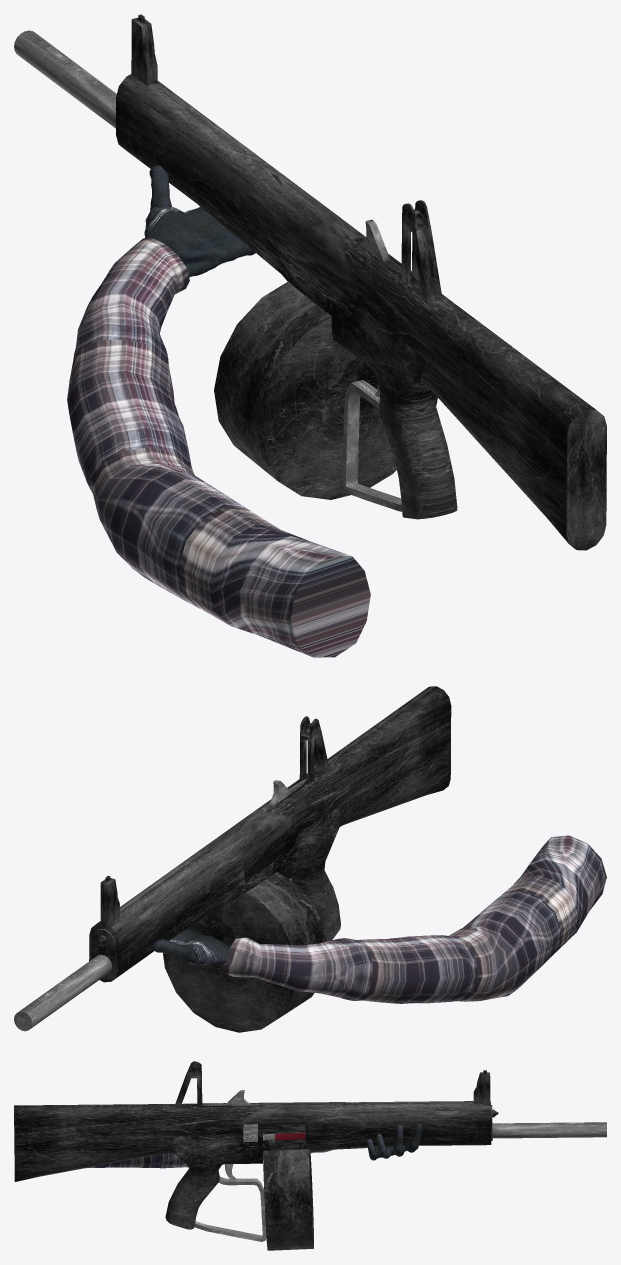
Rendered from aa12_ads_fire.fbx.
The picture shows the model from 3 angles, top to bottom: view 1: azimuth 30°, elevation 25°; view 2: azimuth 150°, elevation 25°; view 3: azimuth 270°, elevation 25°; orthographic projection. The views are drawn at different scales.
Visible parts, largest first — view 1: larm, aaa12_upperbody, aa12_drummagazine, aa12_lowerbody, lhand, aa12_barrel, aa12_wiregrip, aa12_rearsight, aa12_frontsight; view 2: larm, aaa12_upperbody, aa12_drummagazine, aa12_lowerbody, aa12_barrel, aa12_rearsight, lhand, aa12_frontsight, lthumb; view 3: aaa12_upperbody, aa12_lowerbody, aa12_drummagazine, aa12_barrel, aa12_wiregrip, larm, aa12_rearsight, aa12_bolt, aa12_frontsight, 12gauge_shotgunshell, lmfinger.
Part boxes in pixels (x1,y1,x2,y2): larm: [67, 238, 370, 657]; aaa12_upperbody: [116, 74, 606, 550]; aa12_drummagazine: [214, 281, 437, 499]; aa12_lowerbody: [275, 266, 457, 519]; lhand: [144, 206, 252, 277]; aa12_barrel: [14, 30, 116, 128]; aa12_wiregrip: [342, 380, 402, 511]; aa12_rearsight: [401, 200, 441, 299]; aa12_frontsight: [131, 14, 157, 86]; larm: [219, 835, 606, 1003]; aaa12_upperbody: [89, 686, 451, 982]; aa12_drummagazine: [163, 871, 326, 1032]; aa12_lowerbody: [234, 799, 351, 941]; aa12_barrel: [14, 954, 111, 1031]; aa12_rearsight: [299, 716, 329, 782]; lhand: [169, 929, 231, 965]; aa12_frontsight: [100, 876, 119, 924]; lthumb: [153, 939, 198, 962]; aaa12_upperbody: [14, 1101, 492, 1181]; aa12_lowerbody: [157, 1134, 324, 1229]; aa12_drummagazine: [263, 1149, 313, 1250]; aa12_barrel: [492, 1122, 606, 1138]; aa12_wiregrip: [194, 1176, 266, 1241]; larm: [85, 1149, 332, 1168]; aa12_rearsight: [175, 1061, 202, 1107]; aa12_bolt: [202, 1090, 257, 1142]; aa12_frontsight: [473, 1070, 490, 1104]; 12gauge_shotgunshell: [262, 1133, 305, 1140]; lmfinger: [393, 1125, 404, 1156].
Bounding box in the file's own units: 16.31 × 13.81 × 40.81.
3 materials, 3 textured.
